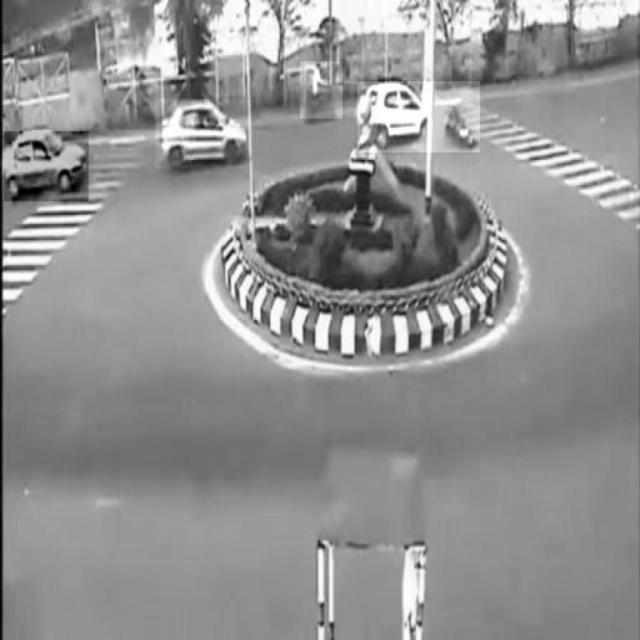accident: (358, 81, 480, 152)
vehicle: (155, 99, 247, 169), (4, 132, 88, 202), (301, 62, 343, 119)
